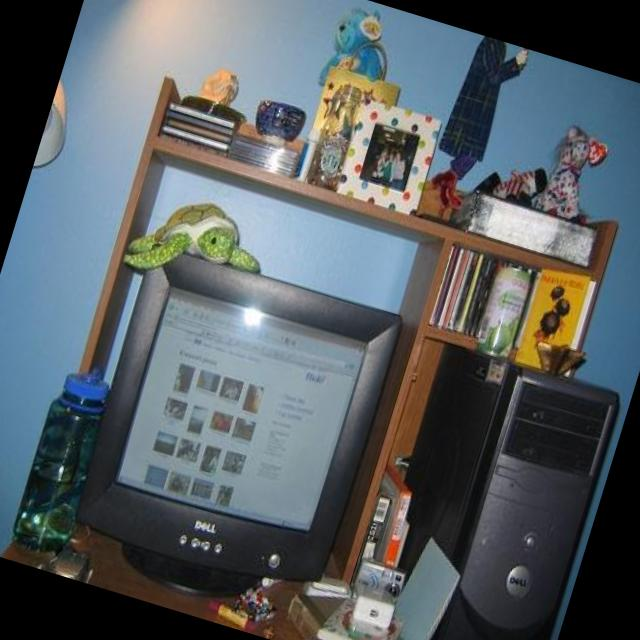book: (428, 245, 540, 352), (511, 261, 602, 382), (278, 583, 443, 640), (358, 463, 422, 568), (447, 249, 483, 333), (428, 246, 461, 327), (435, 247, 465, 329), (461, 254, 492, 333), (442, 252, 473, 331), (163, 108, 234, 137), (162, 125, 230, 154), (168, 101, 236, 129), (164, 117, 232, 145)
bottle: (5, 358, 120, 564), (304, 76, 368, 193)
bowl: (248, 96, 310, 150)
mouse: (41, 540, 94, 582)
teddy bear: (315, 0, 401, 102), (535, 120, 611, 225)
tvmonitor: (53, 236, 410, 640)
